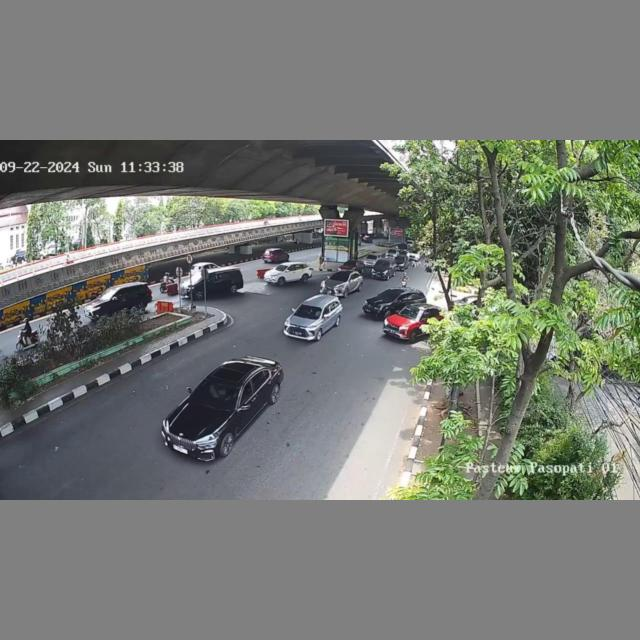windshield: (190, 377, 243, 411), (292, 303, 324, 321), (398, 306, 422, 319), (378, 291, 399, 302), (329, 272, 349, 282)
